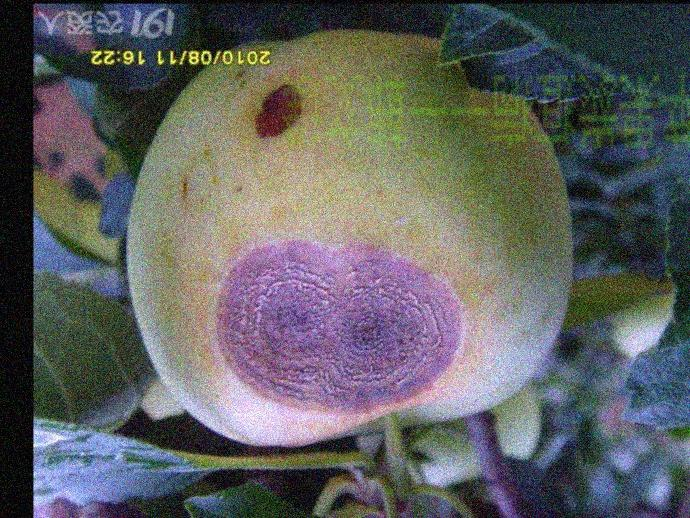rotten apple: (124, 22, 573, 451), (246, 79, 303, 138)
